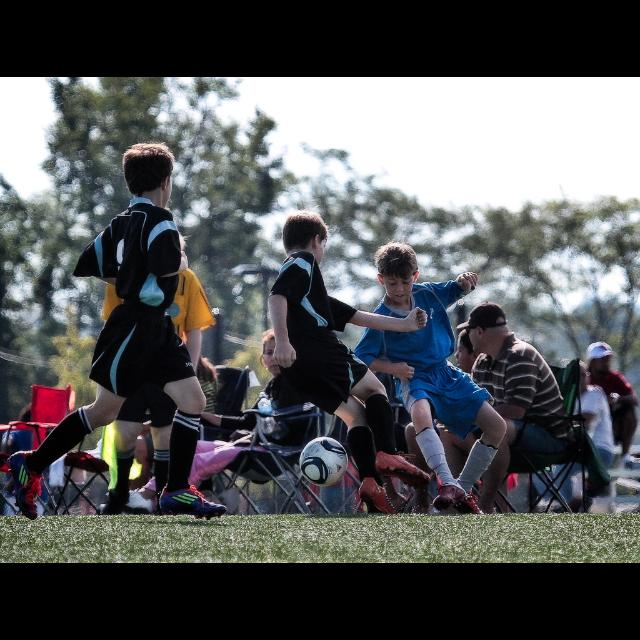Football: (300, 438, 350, 487)
